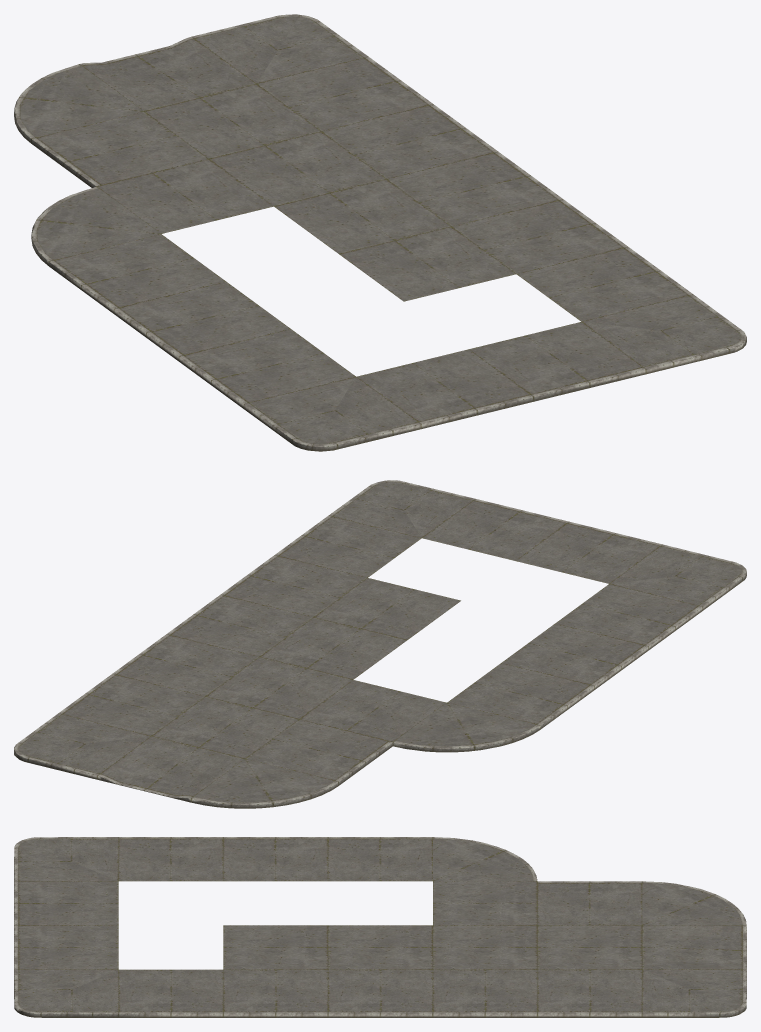
The model's file is pavemnent_trainyard_e.glb.
3 renders of one model, top to bottom at view 1: azimuth 30°, elevation 25°; view 2: azimuth 150°, elevation 25°; view 3: azimuth 270°, elevation 25°, orthographic. The views are drawn at different scales.
Parts seen in each view (by area): view 1: pavemnent_trainyard_e_LOD0; view 2: pavemnent_trainyard_e_LOD0; view 3: pavemnent_trainyard_e_LOD0.
Boxes of the visible parts, x1=… form: pavemnent_trainyard_e_LOD0: x1=14, y1=14, x2=746, y2=451; pavemnent_trainyard_e_LOD0: x1=14, y1=480, x2=746, y2=808; pavemnent_trainyard_e_LOD0: x1=14, y1=837, x2=746, y2=1017.
Size of the model in its own units: 24 by 0.2512 by 42.
Materials: 1 (1 with a texture image).
